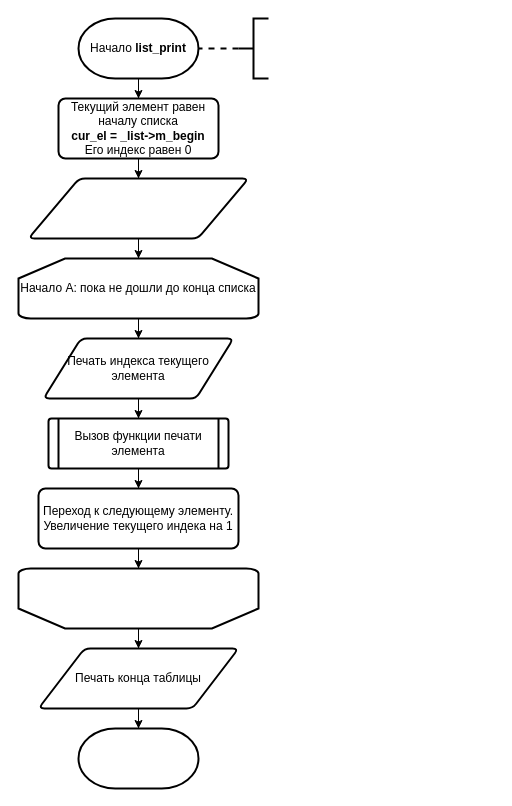
This 512x806 diagram has some shape labels left out. Each missing label, with the box of its shape:
list - список out_stream - поток вывода информации: (237, 17, 269, 79)
Конец list_print: (77, 727, 199, 789)
Конец А: (17, 567, 259, 629)
Печать шапки таблицы и размера списка: (27, 177, 249, 239)
